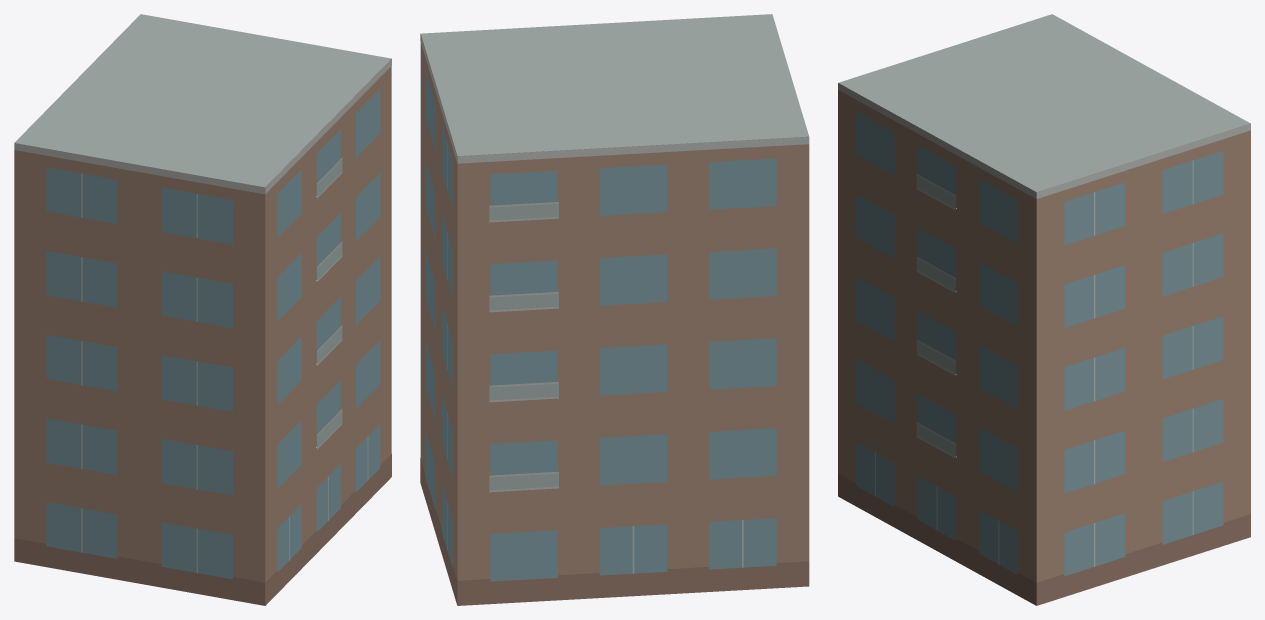
Rendered from survey-upis-32691422.glb.
3 renders of one model, left to right at view 1: azimuth 30°, elevation 25°; view 2: azimuth 150°, elevation 25°; view 3: azimuth 270°, elevation 25°, orthographic. The views are drawn at different scales.
Parts seen in each view (by area): view 1: survey-upis-32691422.tmp; view 2: survey-upis-32691422.tmp; view 3: survey-upis-32691422.tmp.
Boxes of the visible parts, x1,y1,x2,y2 form: survey-upis-32691422.tmp: (14,14,391,605); survey-upis-32691422.tmp: (420,14,809,605); survey-upis-32691422.tmp: (838,14,1250,605).
Size of the model in its own units: 13.5 by 14.6 by 13.21.
